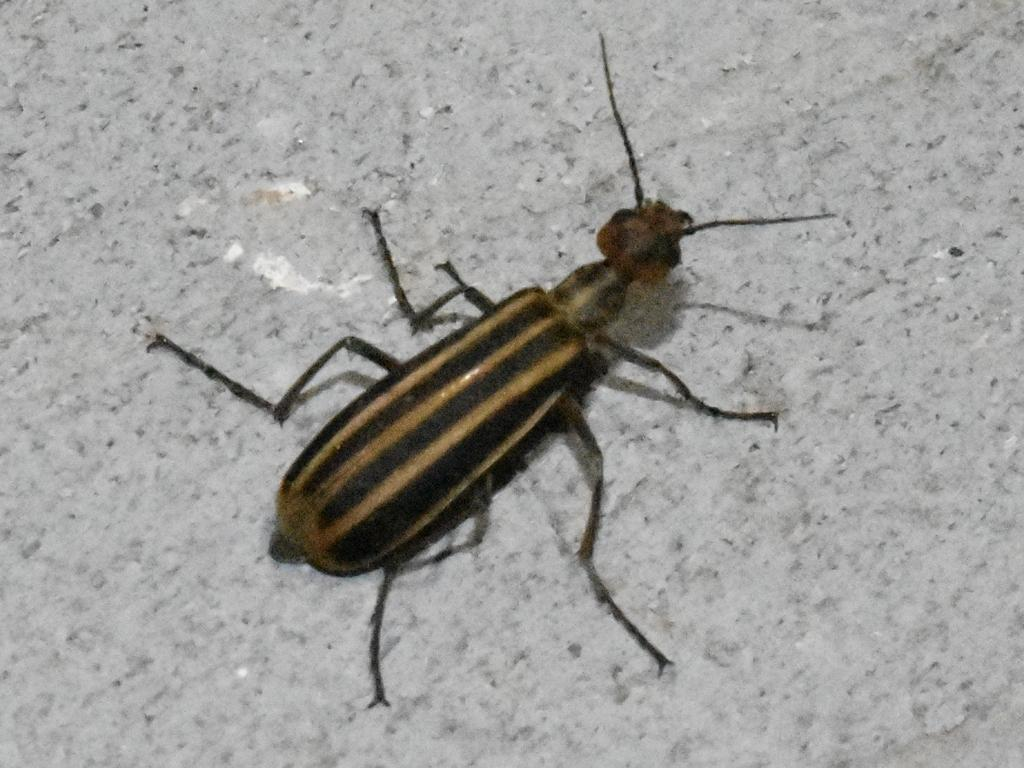blister_beetle: (93, 0, 913, 768)
